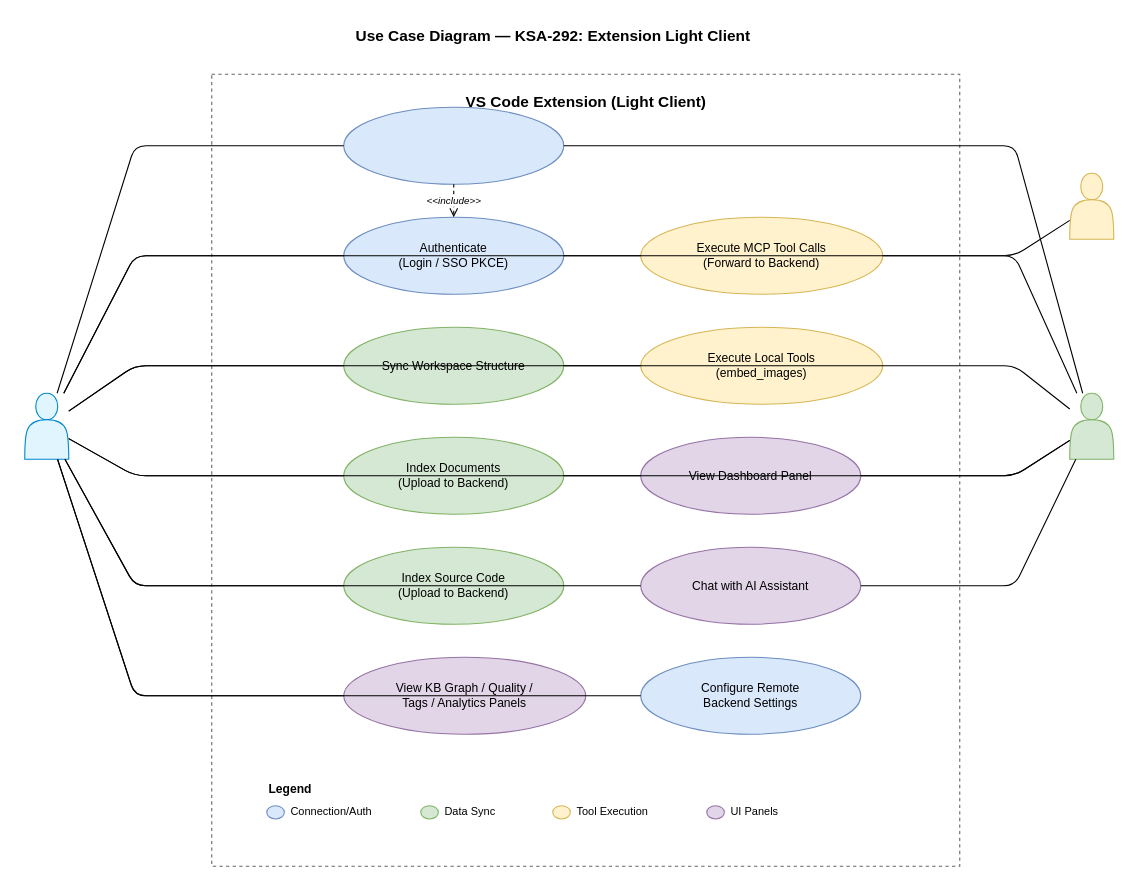
Image size: 1134x886. Some labels were removed from this diagram. The shapes that lost their labels are listed below. From the top down, each one's centre as x and y in pixels, then its label:
point (453, 145): Connect to Remote Backend
point (1091, 205): SSO Provider
point (46, 425): Developer
point (1091, 425): Remote Backend
